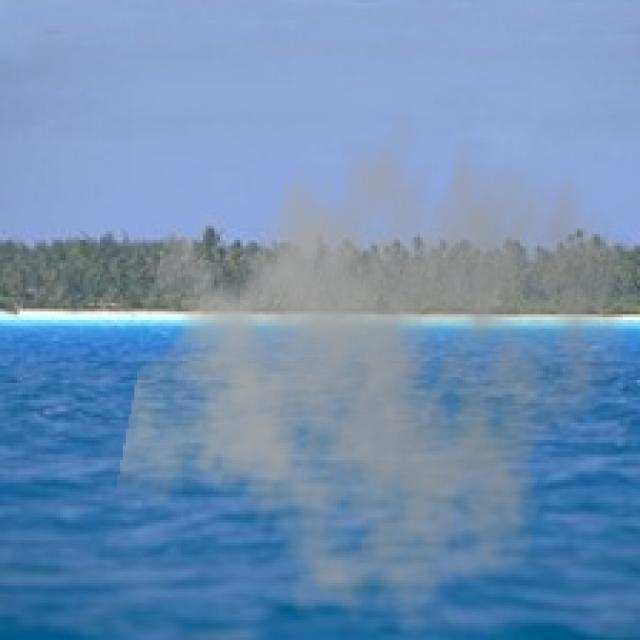Smoke: (114, 85, 637, 638)
